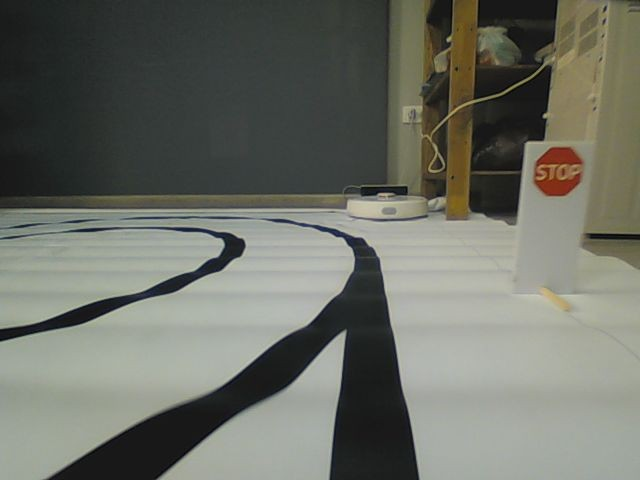Stop: (533, 147, 585, 195)
